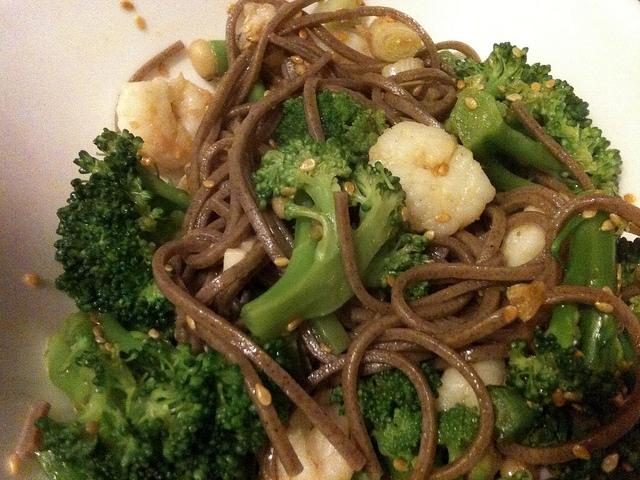broccoli: (241, 134, 435, 344), (35, 312, 268, 480), (54, 127, 192, 335), (442, 42, 622, 198), (532, 211, 636, 424), (331, 361, 443, 480), (486, 384, 534, 447), (436, 404, 481, 464), (520, 414, 564, 448), (331, 92, 366, 127), (618, 236, 640, 288)
cauliflower: (368, 121, 496, 241), (116, 73, 213, 176), (276, 388, 354, 480), (436, 359, 506, 412), (501, 206, 547, 268)
